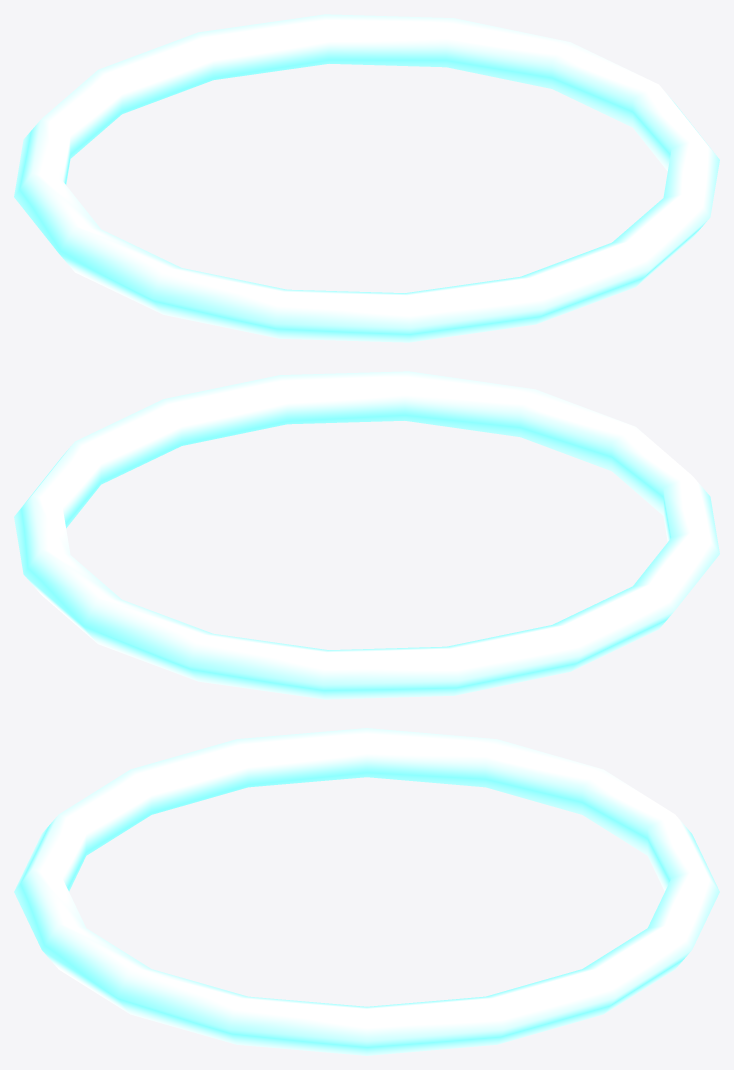
File: Curb_Circle_00.fbx
3 renders of one model, top to bottom at view 1: azimuth 30°, elevation 25°; view 2: azimuth 150°, elevation 25°; view 3: azimuth 270°, elevation 25°, orthographic.
Visible parts, largest first — view 1: Curb_Circle_00; view 2: Curb_Circle_00; view 3: Curb_Circle_00.
Boxes of the visible parts, x1,y1,x2,y2 form: Curb_Circle_00: [14, 14, 719, 342]; Curb_Circle_00: [14, 371, 719, 699]; Curb_Circle_00: [14, 728, 719, 1055].
Size of the model in its own units: 508 by 35.91 by 508.
